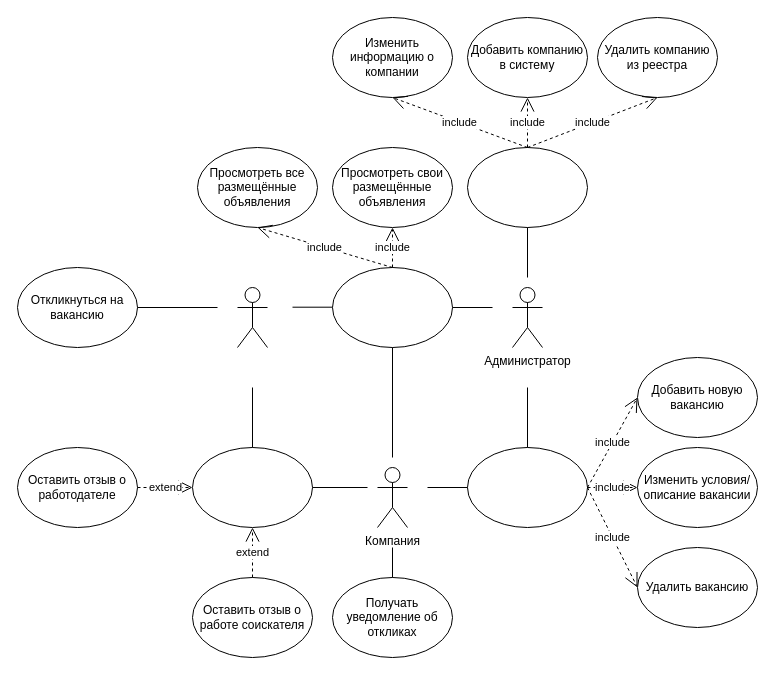
This 775x675 diagram has some shape labels left out. Each missing label, with the box of its shape:
Взаимодействовать с компаниями: (466, 146, 588, 228)
Оставить отзыв: (192, 446, 312, 528)
Подросток (соискатель): (236, 286, 268, 348)
Просмотреть вакансии: (332, 266, 452, 348)
Управлять вакансиями: (466, 446, 588, 528)
